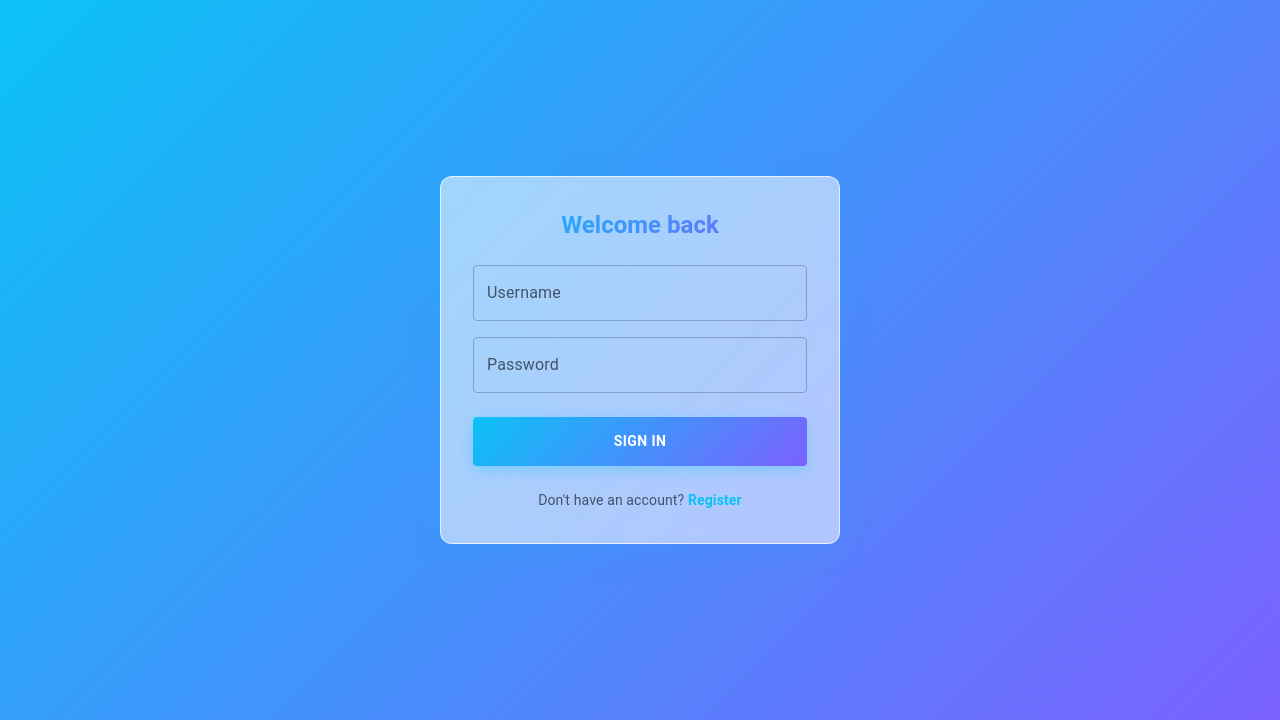
Test: Login › shows error alert with field prefix on API 401
Type "wrong" into the field with test id "login-username" at (640, 293), box left=473, top=265, right=807, bottom=321
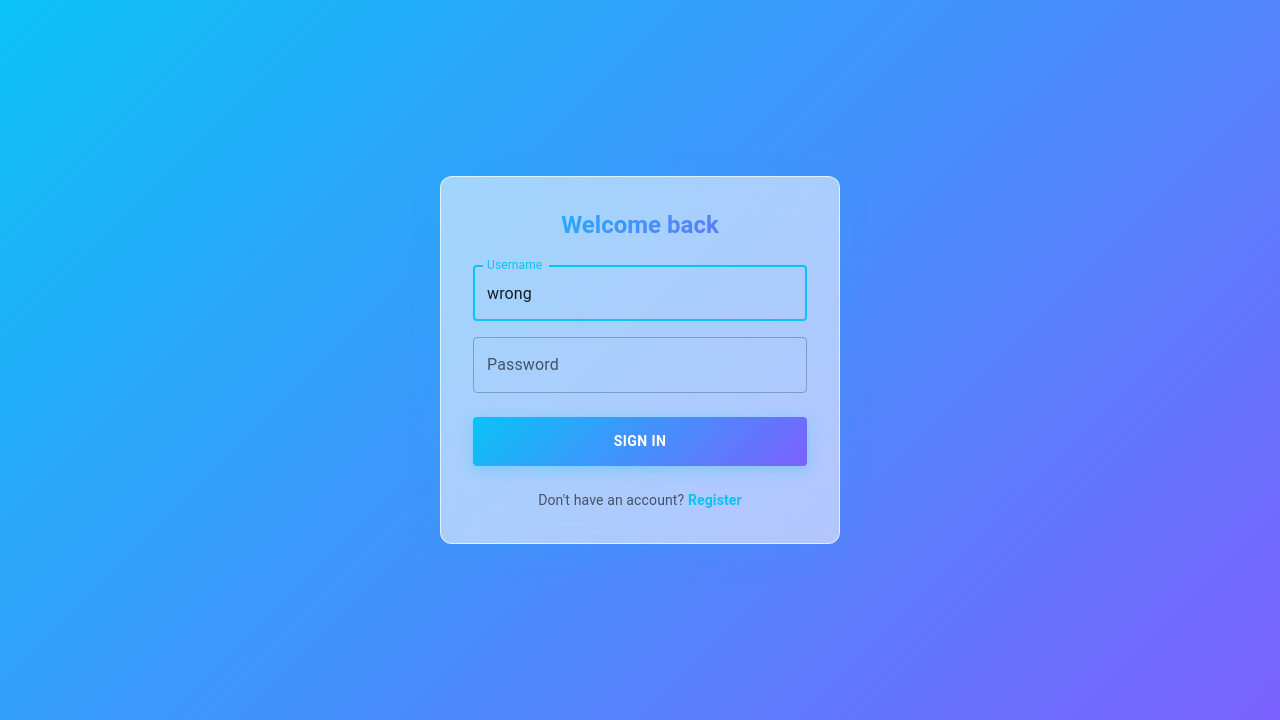
Type "wrong" into the password field with test id "login-password" at (640, 365), box left=473, top=337, right=807, bottom=393
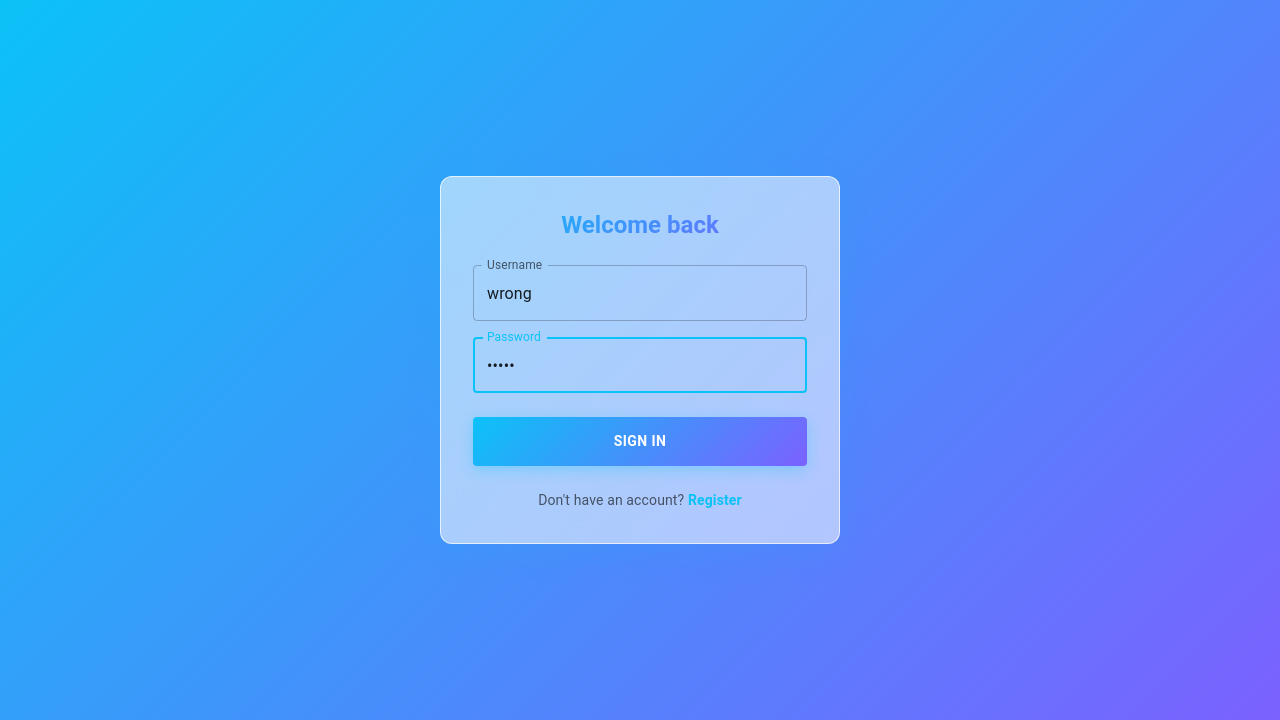
Click the button with test id "login-submit" at (640, 442), box left=473, top=417, right=807, bottom=466
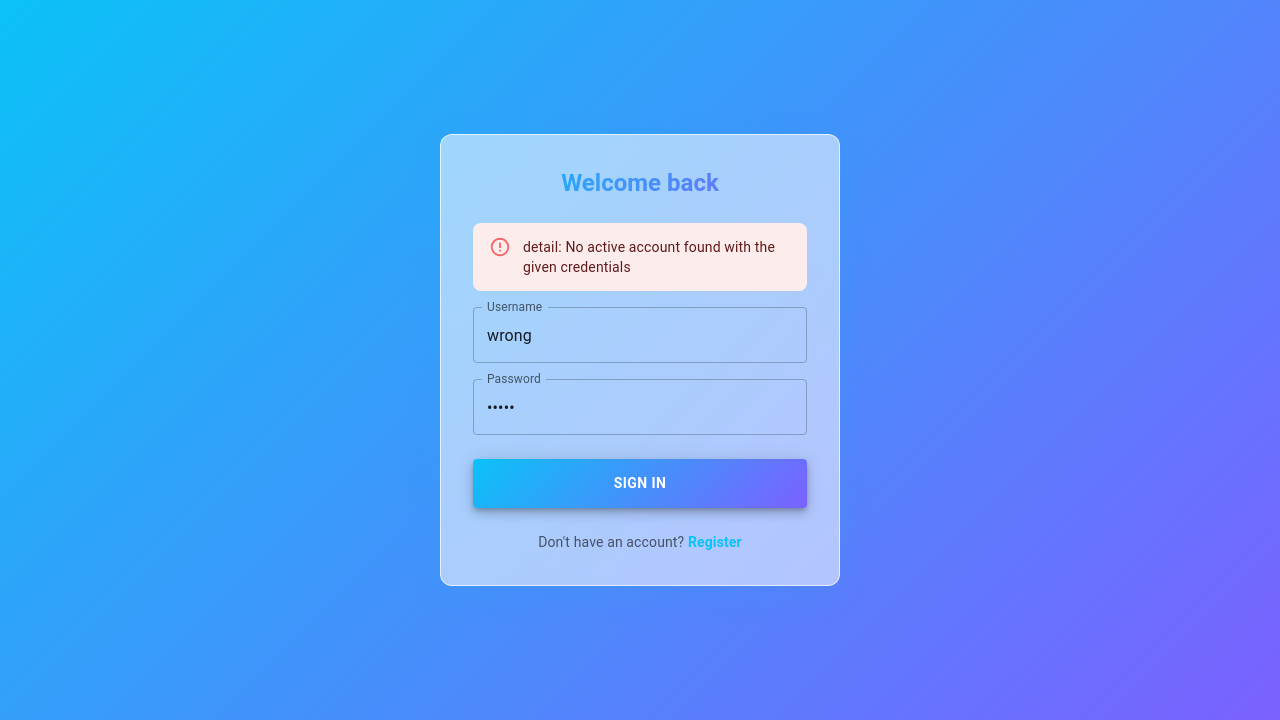
Expected: the element with test id "login-error" is shown, left=473, top=223, right=807, bottom=291
Expected: the element with test id "login-error" reads "detail: No active account found with the given credentials", left=523, top=239, right=775, bottom=275
